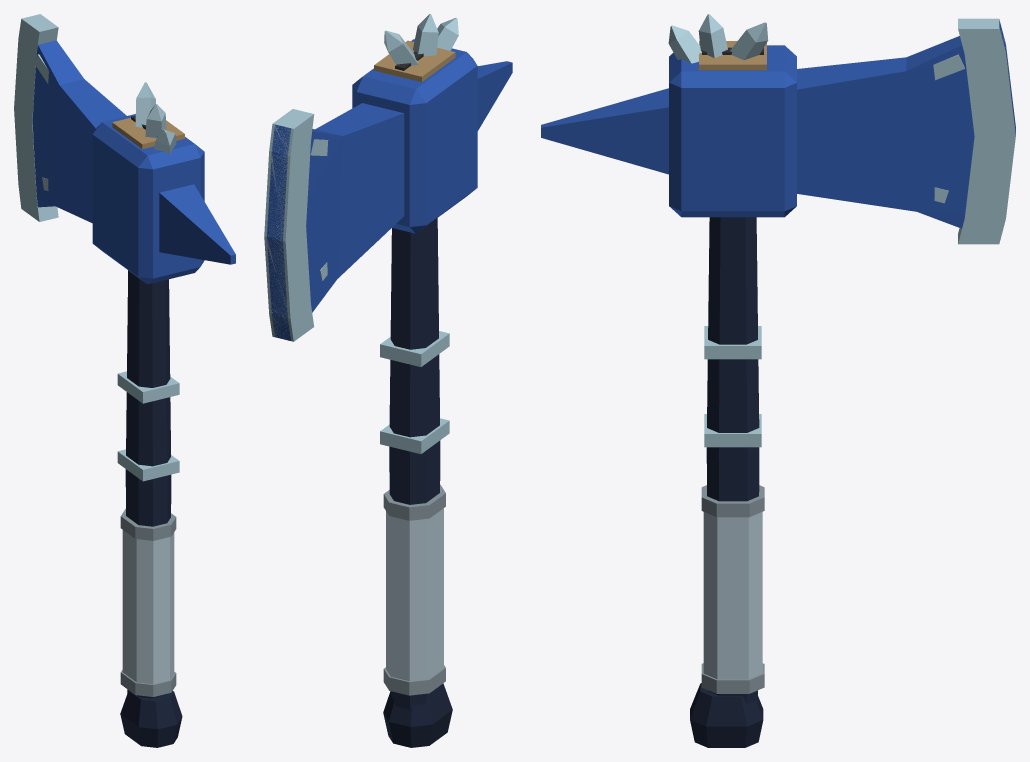
File: CobaltAxe.glb
3 views of the same model, side by side, from view 1: azimuth 30°, elevation 25°; view 2: azimuth 150°, elevation 25°; view 3: azimuth 270°, elevation 25° (orthographic). The views are drawn at different scales.
Visible parts, largest first — view 1: Head, Handle; view 2: Head, Handle; view 3: Head, Handle.
Boxes of the visible parts, <box> form: Head: <box>14,14,235,284</box>; Handle: <box>112,117,184,747</box>; Head: <box>264,14,512,341</box>; Handle: <box>374,40,455,747</box>; Head: <box>541,14,1015,244</box>; Handle: <box>690,41,766,747</box>.
Bounding box in the file's own units: 0.4452 × 4.09 × 2.44.
